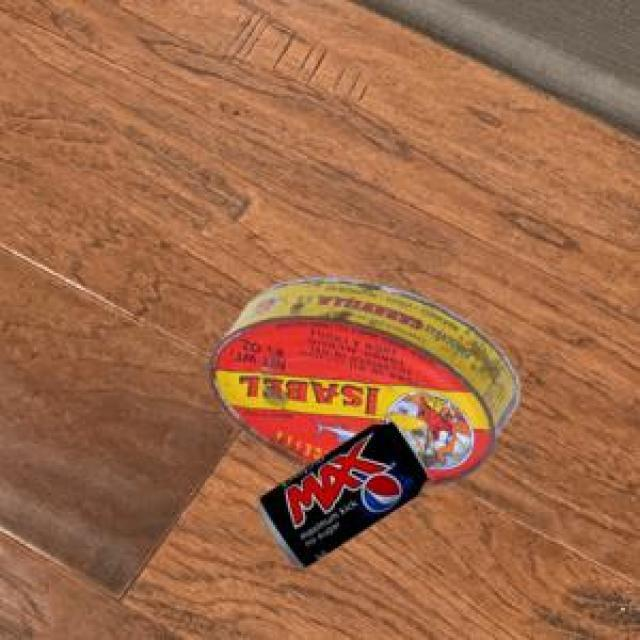Can: (206, 274, 517, 485), (255, 419, 426, 564)
